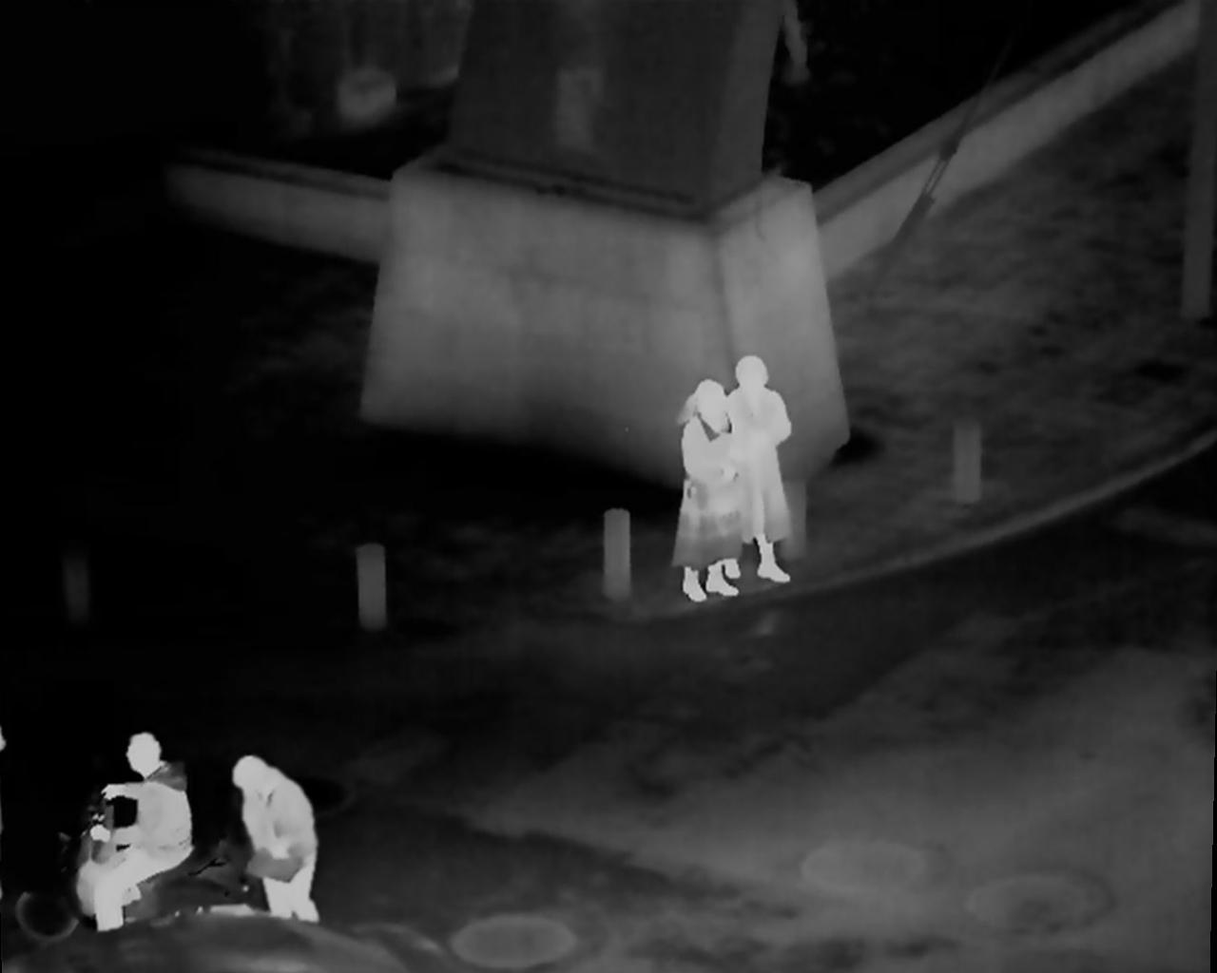person: (87, 735, 191, 938), (672, 378, 738, 601), (234, 755, 319, 920), (730, 354, 789, 591)
